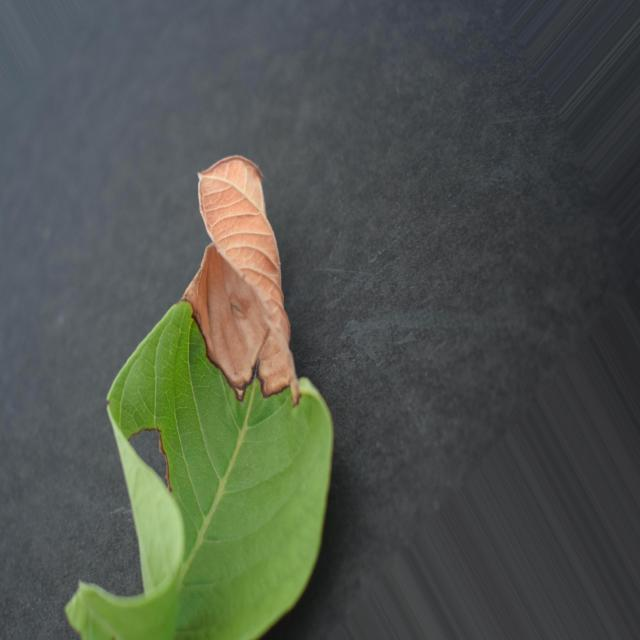Mummification: (66, 158, 332, 638)
